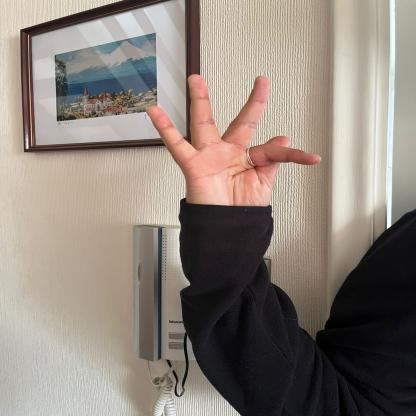F: (144, 67, 327, 222)
